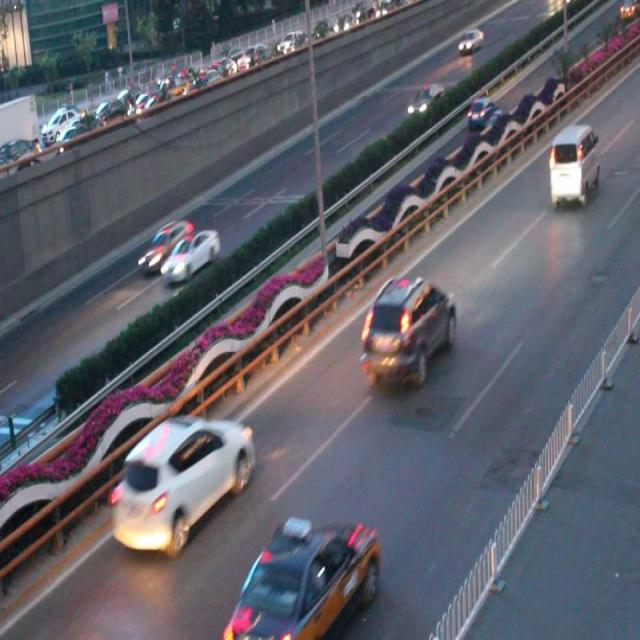car: (111, 414, 254, 550), (226, 514, 378, 640), (360, 274, 454, 384), (162, 231, 219, 282), (136, 222, 192, 266), (405, 80, 441, 118), (464, 94, 497, 130)
truck: (546, 122, 600, 206)
